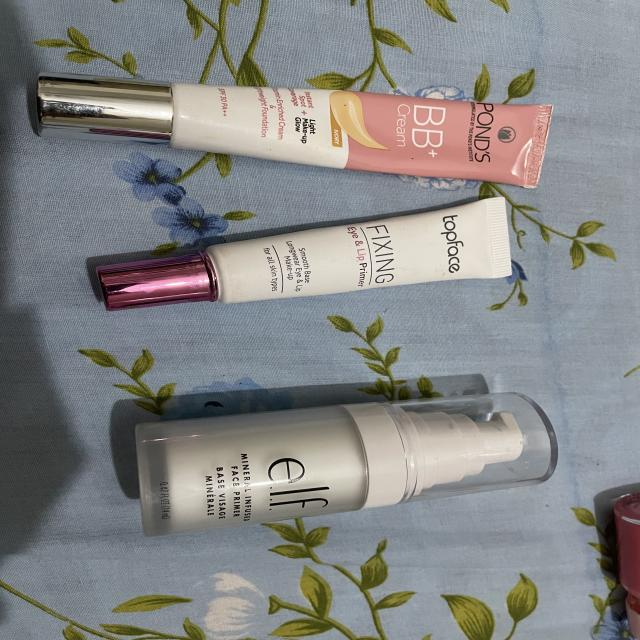bb cream: (11, 54, 592, 193)
primer: (107, 371, 580, 548), (81, 186, 544, 318)
